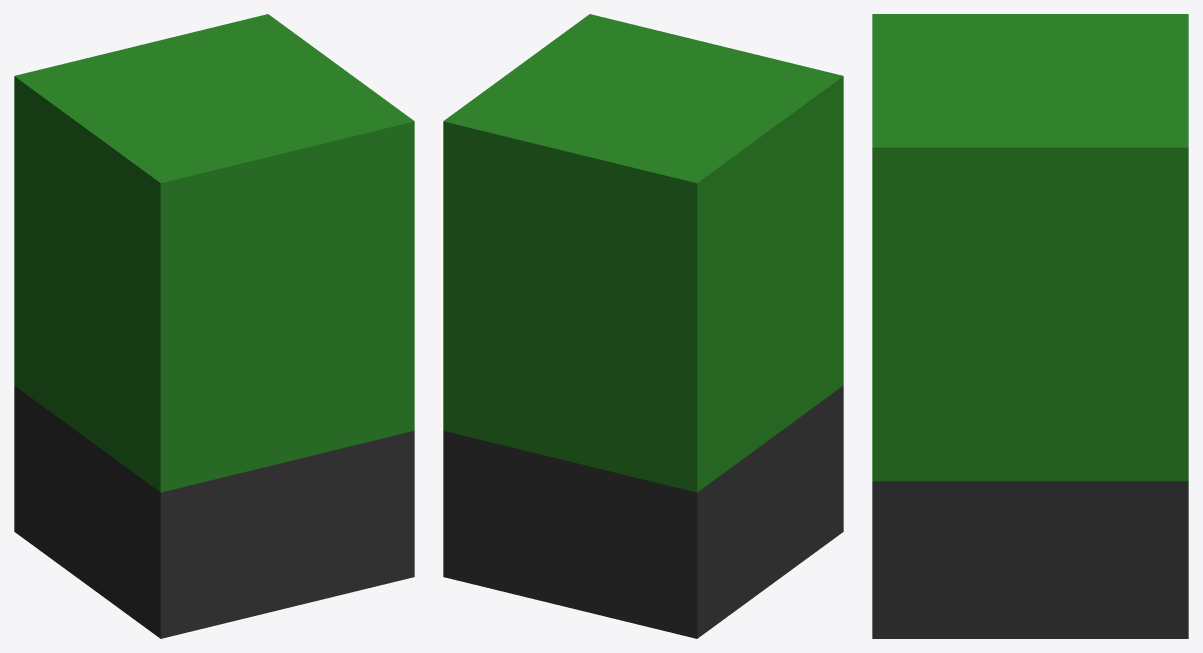
Rendered from Ammo_Grenade.FBX.
3 views of the same model, side by side, from view 1: azimuth 30°, elevation 25°; view 2: azimuth 150°, elevation 25°; view 3: azimuth 270°, elevation 25° (orthographic). The views are drawn at different scales.
Visible parts, largest first — view 1: Grenade_Rifle; view 2: Grenade_Rifle; view 3: Grenade_Rifle.
Boxes of the visible parts, x1=… form: Grenade_Rifle: x1=14, y1=14, x2=414, y2=638; Grenade_Rifle: x1=443, y1=14, x2=843, y2=638; Grenade_Rifle: x1=872, y1=14, x2=1188, y2=638.
Bounding box in the file's own units: 7 × 7 × 12.
